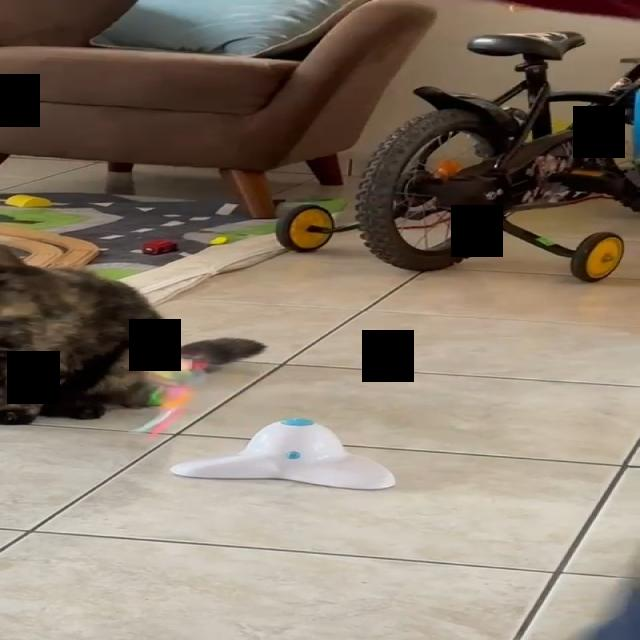authorized: (0, 245, 267, 425)
